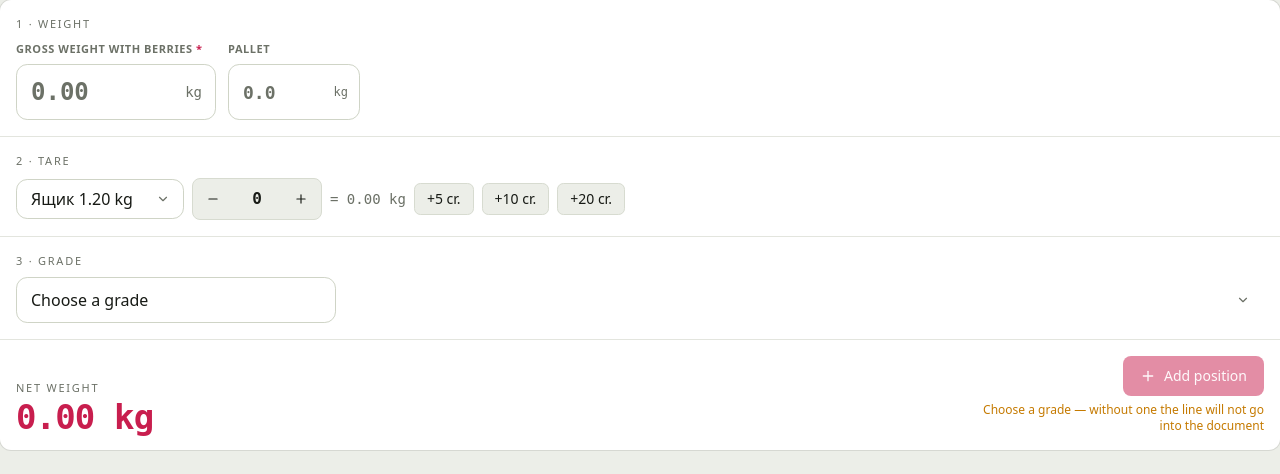
Test: WeighingForm › names the shared format message under a half-typed gross and blocks the add (#72)
Select "Малина 1" in the dropdown named "Grade" at coordinates (176, 300), box [16,277,336,323]
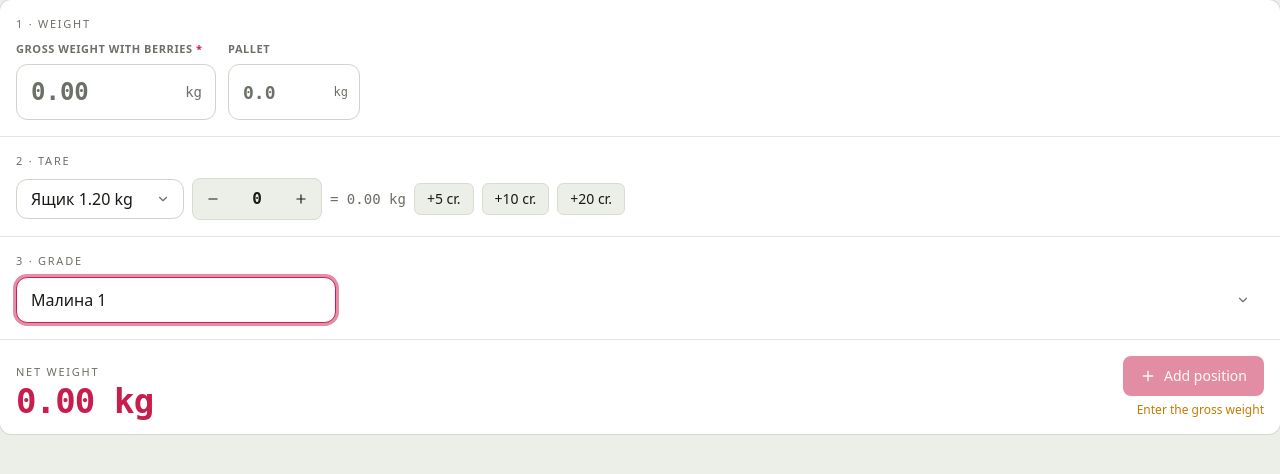
Type "12." into the field labelled "Gross weight with berries" at coordinates (116, 92), box [16,64,216,120]
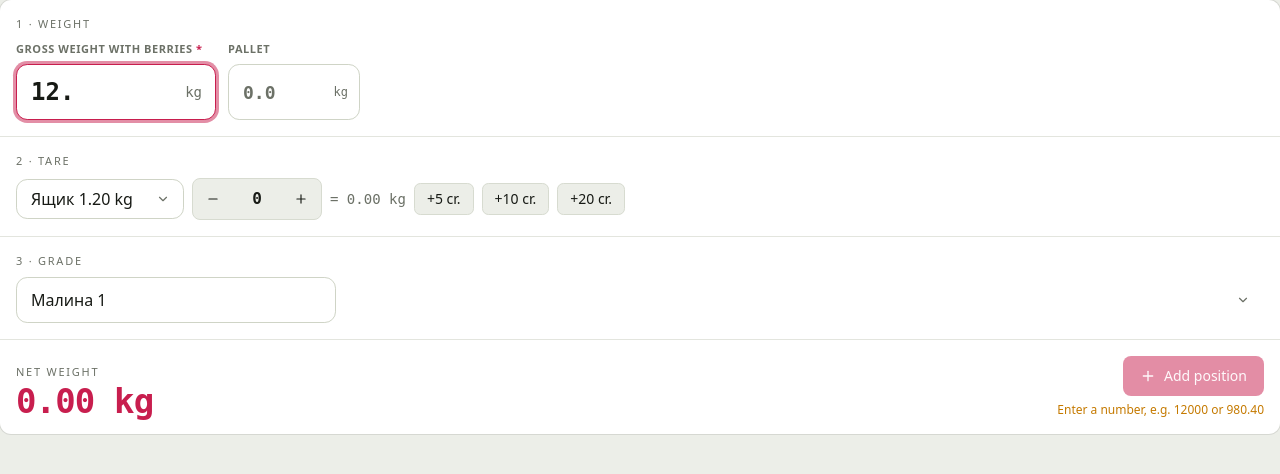
Expected: the button "Add position" is disabled, [1123,356,1264,396]
Press Tab
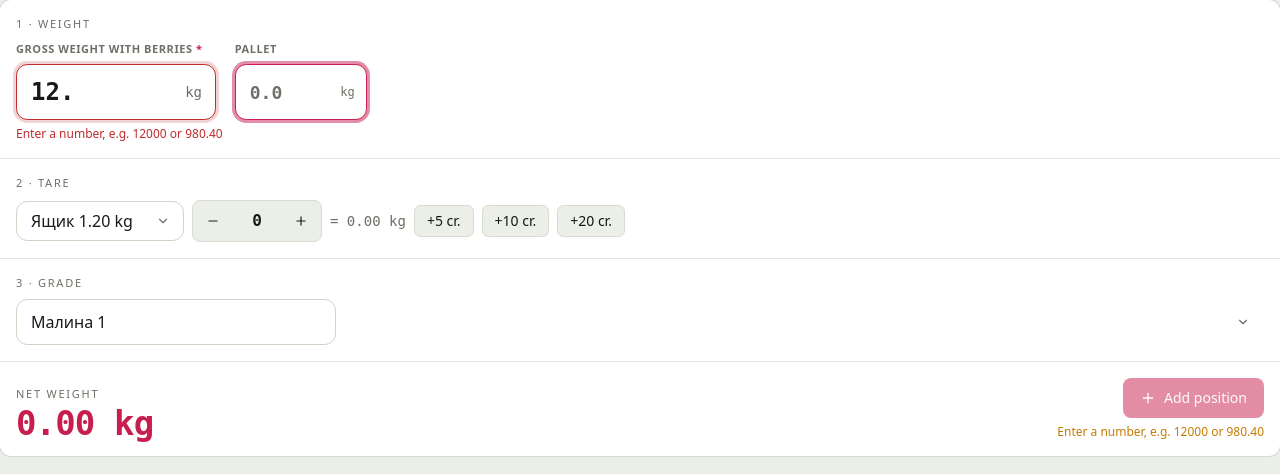
Expected: the button "Add position" is disabled, [1123,378,1264,418]
Expected: the text "Enter a number, e.g. 12000 or 980.40" is shown, [16,126,223,142]
